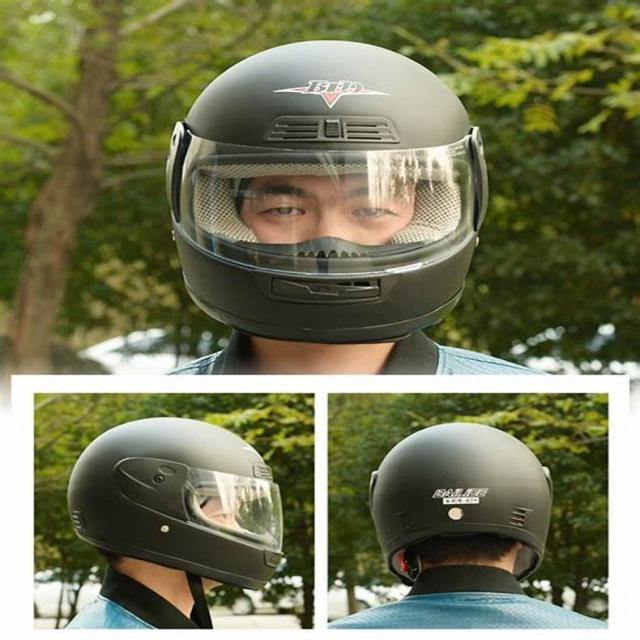helmet: (156, 34, 496, 350), (62, 410, 295, 600), (358, 416, 566, 592)
